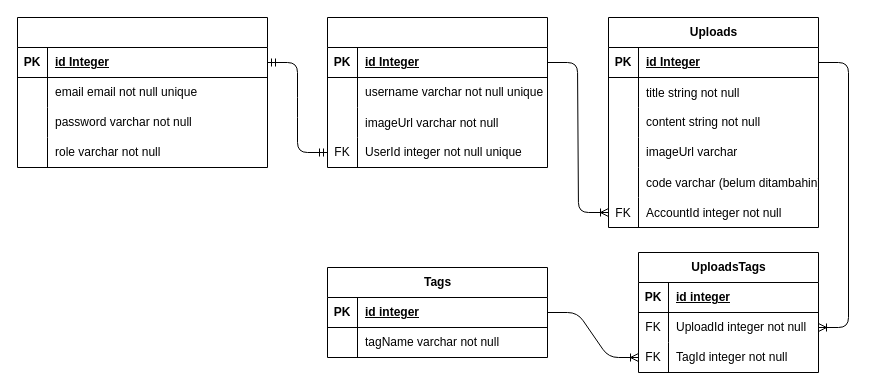
Image size: 874x390. Some labels were removed from this diagram. Here are the shapes that lost their labels. From the top down, the box of each, then its label:
(16, 16, 268, 168): Users
(326, 16, 548, 168): Accounts
